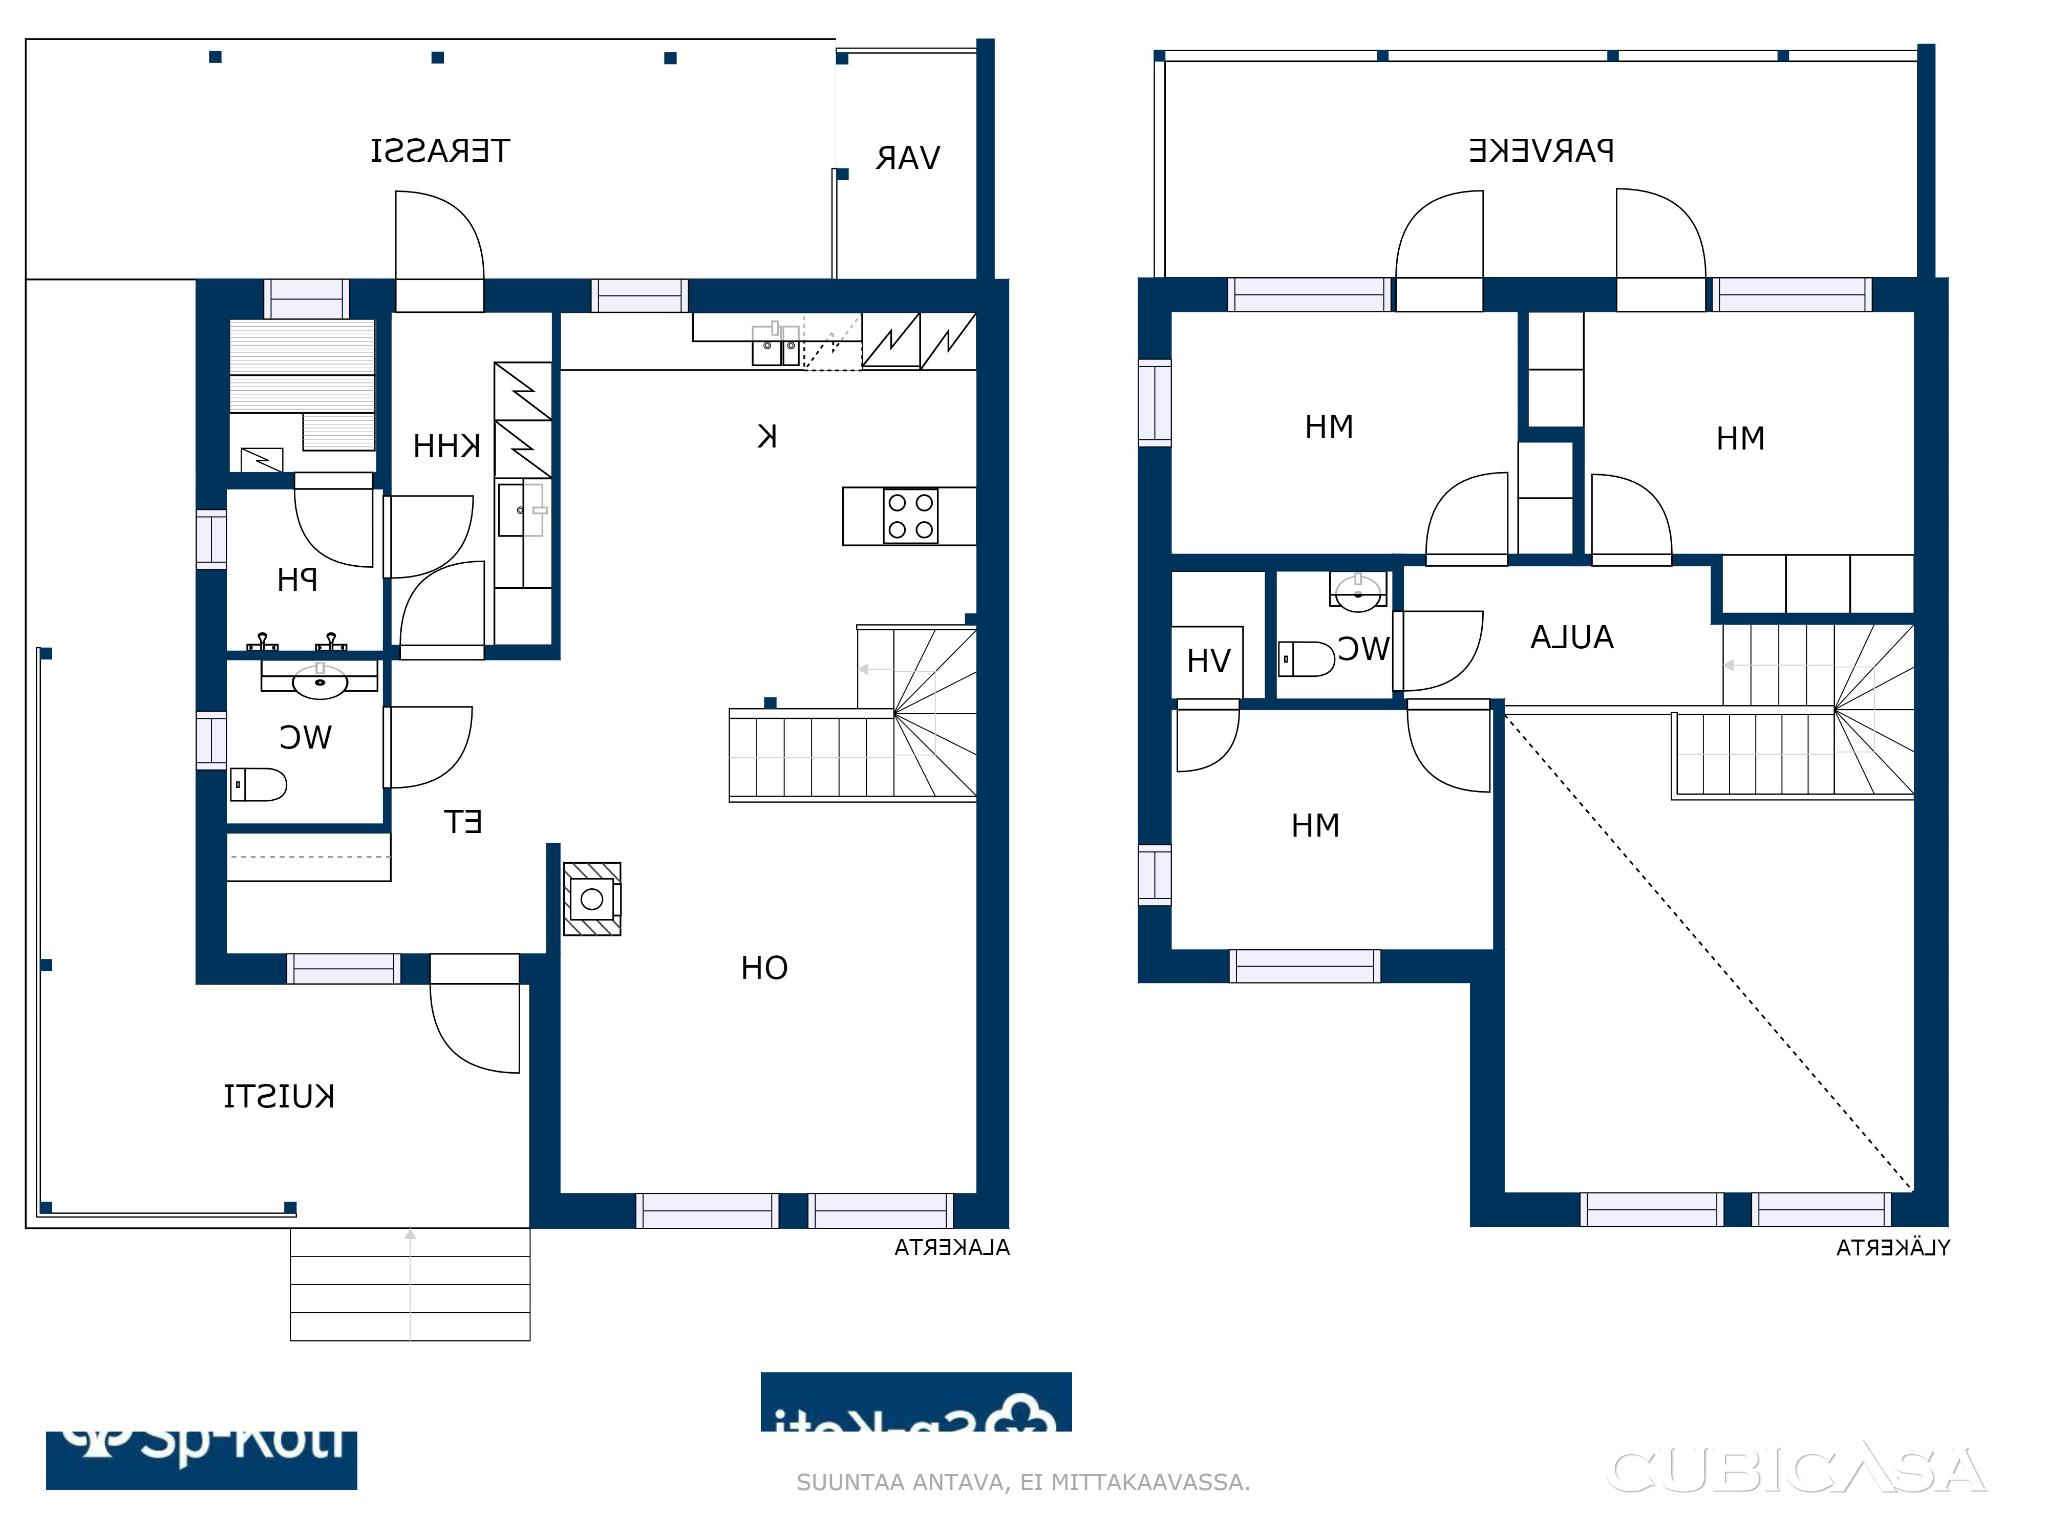bathroom: (223, 650, 385, 820), (1277, 566, 1398, 702)
door: (389, 182, 493, 319), (1390, 184, 1496, 315), (1608, 184, 1716, 311), (423, 947, 524, 1079), (1398, 691, 1500, 794), (1582, 466, 1679, 570), (397, 558, 492, 662), (376, 702, 481, 792), (1421, 468, 1513, 570), (292, 473, 382, 574), (379, 492, 477, 579), (1385, 607, 1487, 686), (1171, 697, 1253, 779)
perimeter: (1127, 271, 1954, 1236), (189, 271, 1014, 1233)
stairs: (1672, 620, 1919, 797), (735, 629, 980, 807), (297, 1228, 531, 1341)
window: (1216, 268, 1398, 324), (1561, 1176, 1737, 1234), (1706, 268, 1887, 324), (790, 1181, 971, 1236), (1216, 941, 1395, 992), (1738, 1176, 1904, 1231), (634, 1184, 787, 1239), (247, 266, 360, 324), (1129, 339, 1184, 458), (579, 269, 700, 323), (273, 947, 408, 987), (1124, 836, 1177, 918), (184, 702, 235, 781), (189, 500, 235, 581)
